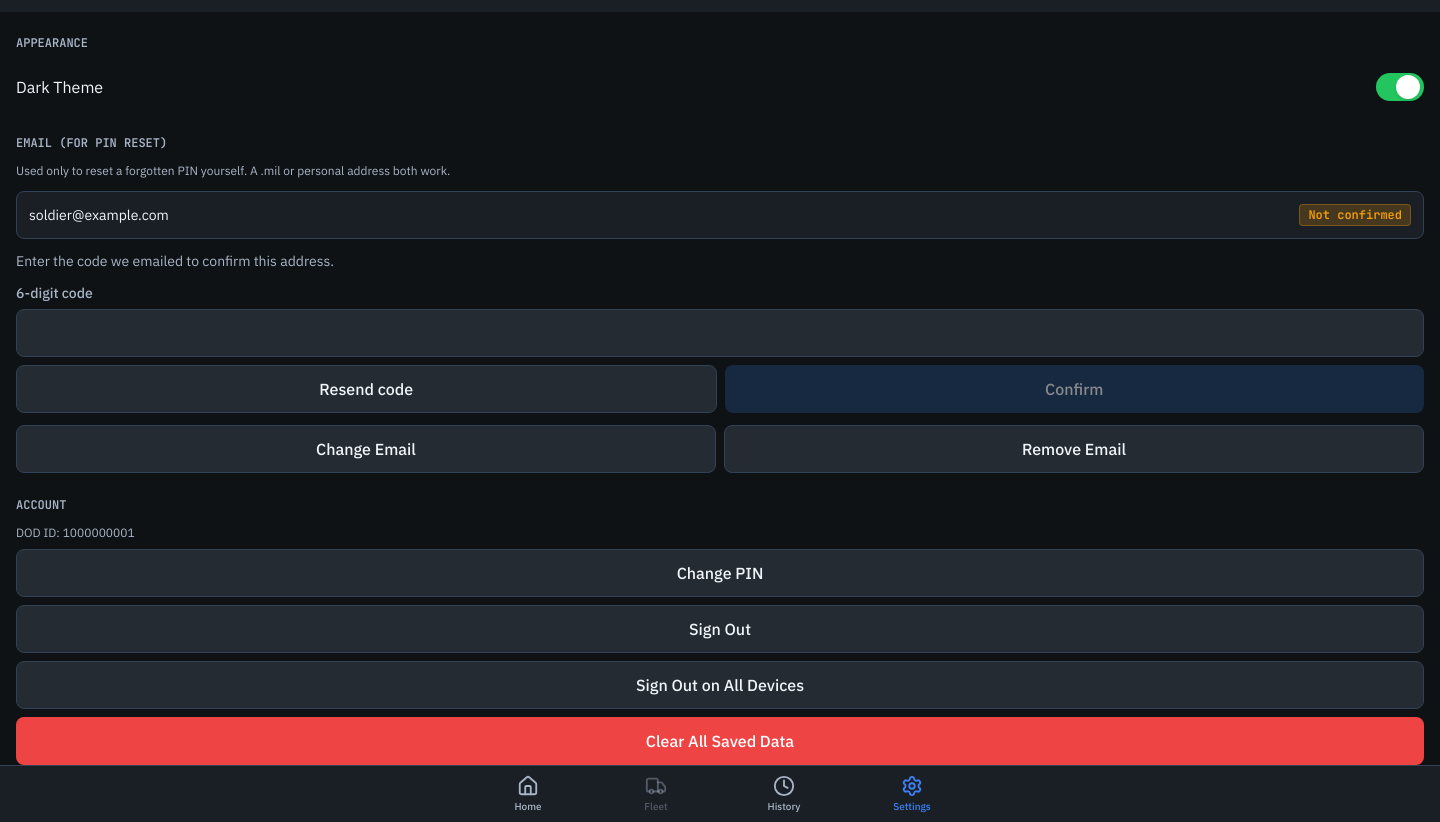
Test: Settings → Email › confirms an unconfirmed email with the code and keeps the cache in sync
(page scrolled)
Expected: the text with test id "email-current" reads "soldier@example.com", [29,206,169,224]
Expected: the element with test id "email-settings" shows "Not confirmed", [1308,207,1402,223]
Click the button "Resend code" at (366,389), box [16,365,716,413]
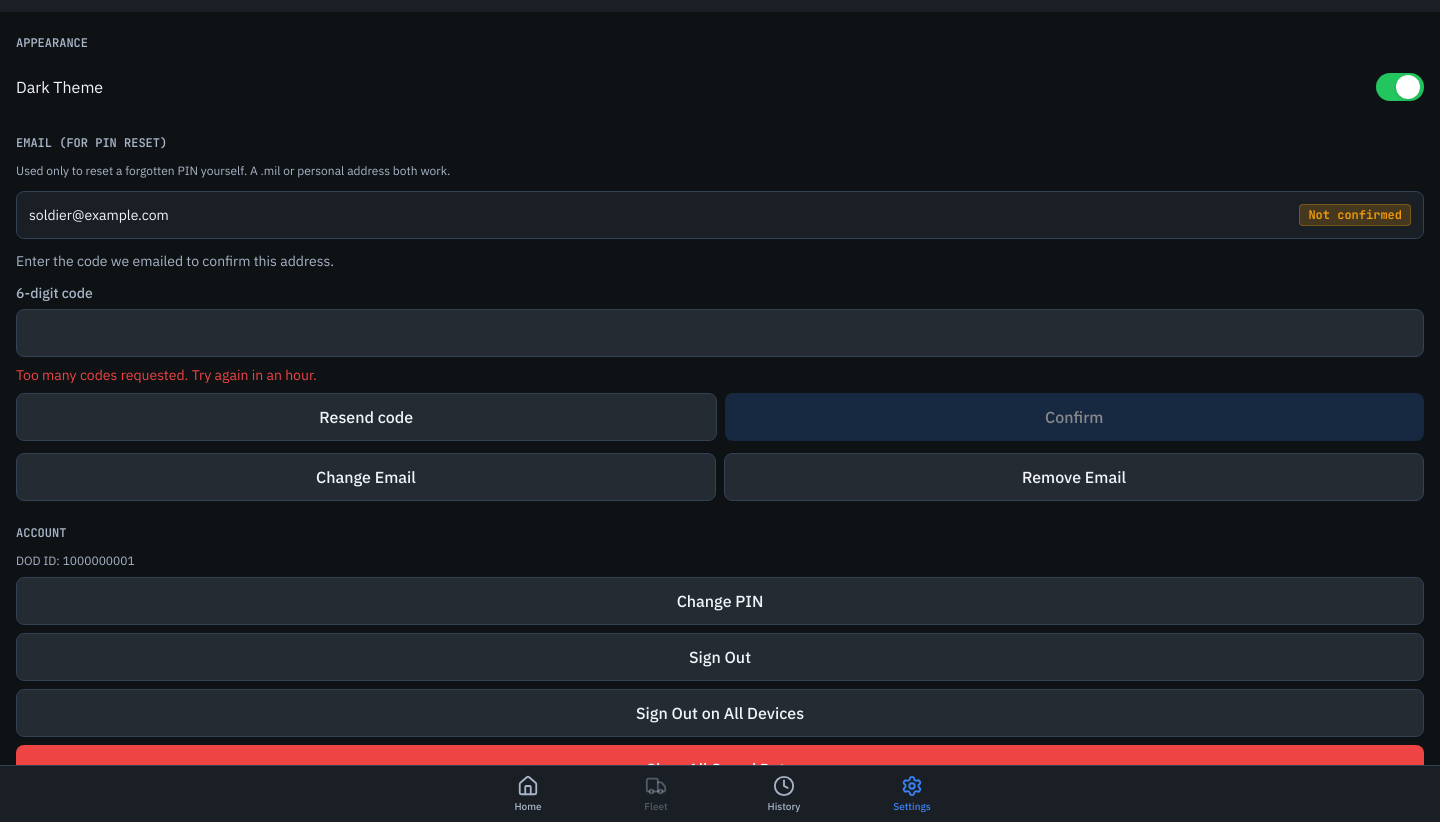
Result: the message shows "Too many codes requested" at [16,366,317,384]
Type "111111" into the field labelled "6-digit code" at (720,333), box [16,309,1424,357]
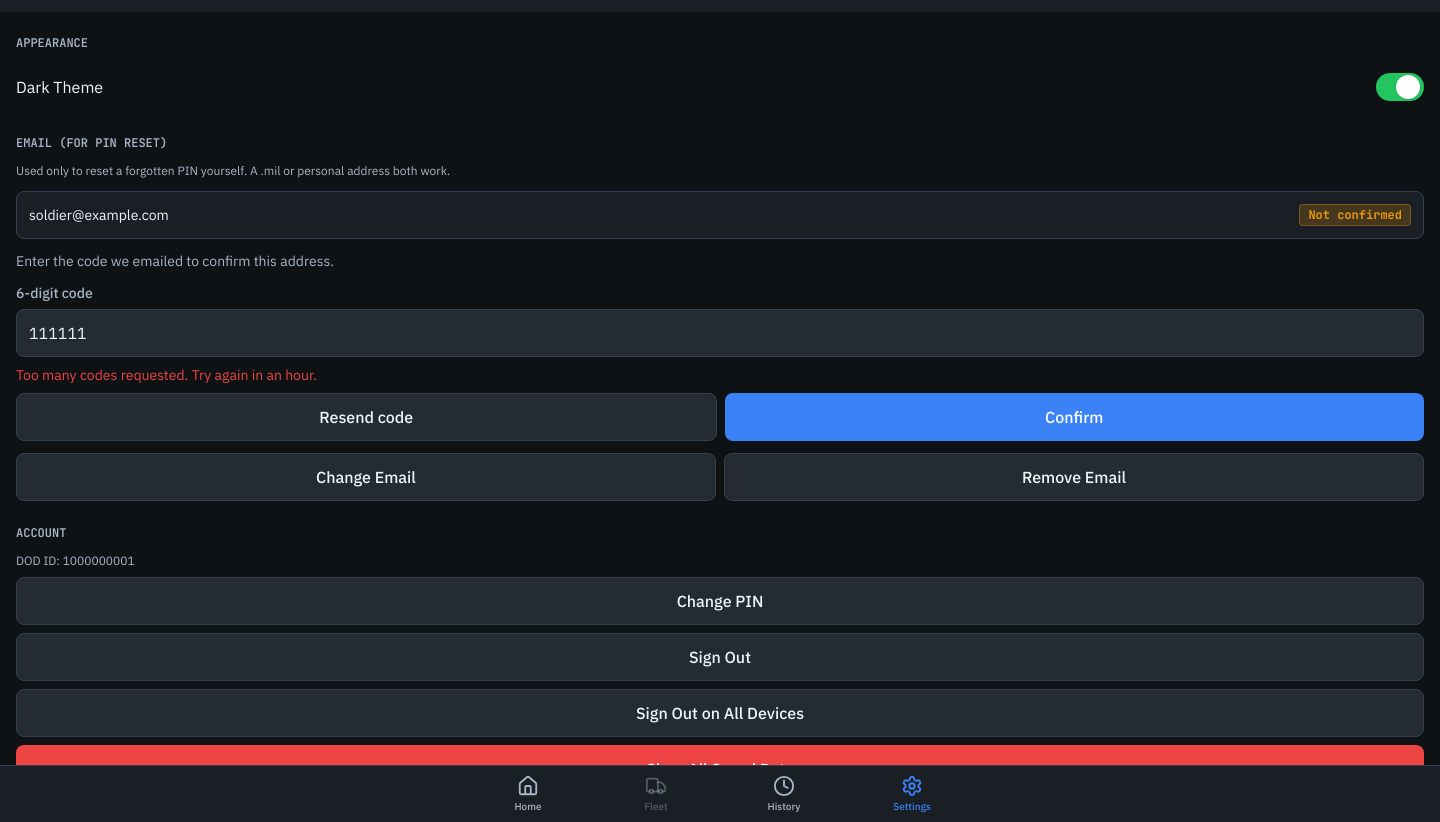
Click the button "Confirm" at (1074,417), box [724,393,1424,441]
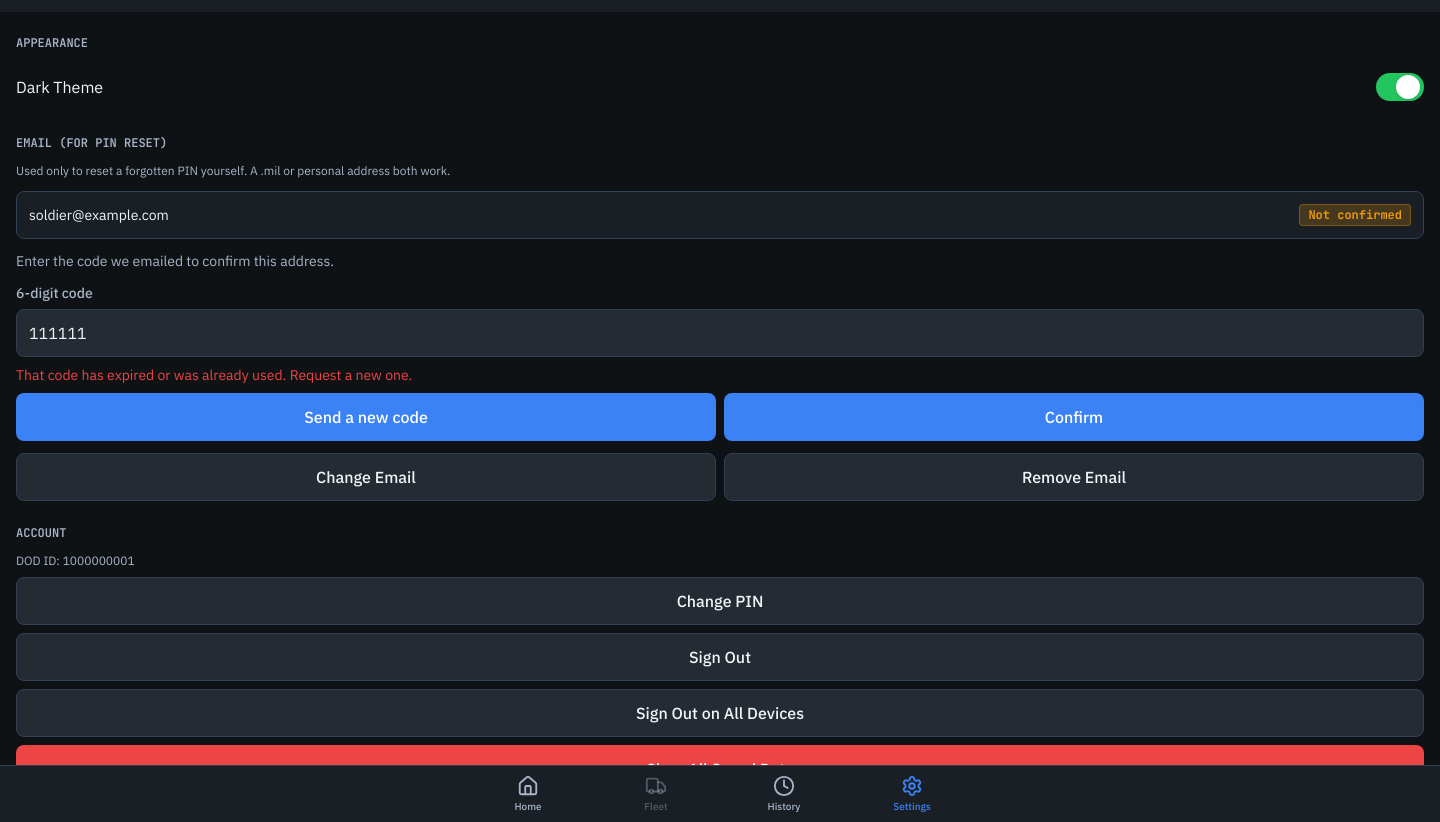
Result: the button "Send a new code" is shown at [16,393,716,441]
Replace the text in the field labelled "6-digit code" with "654321" at (720,333), box [16,309,1424,357]
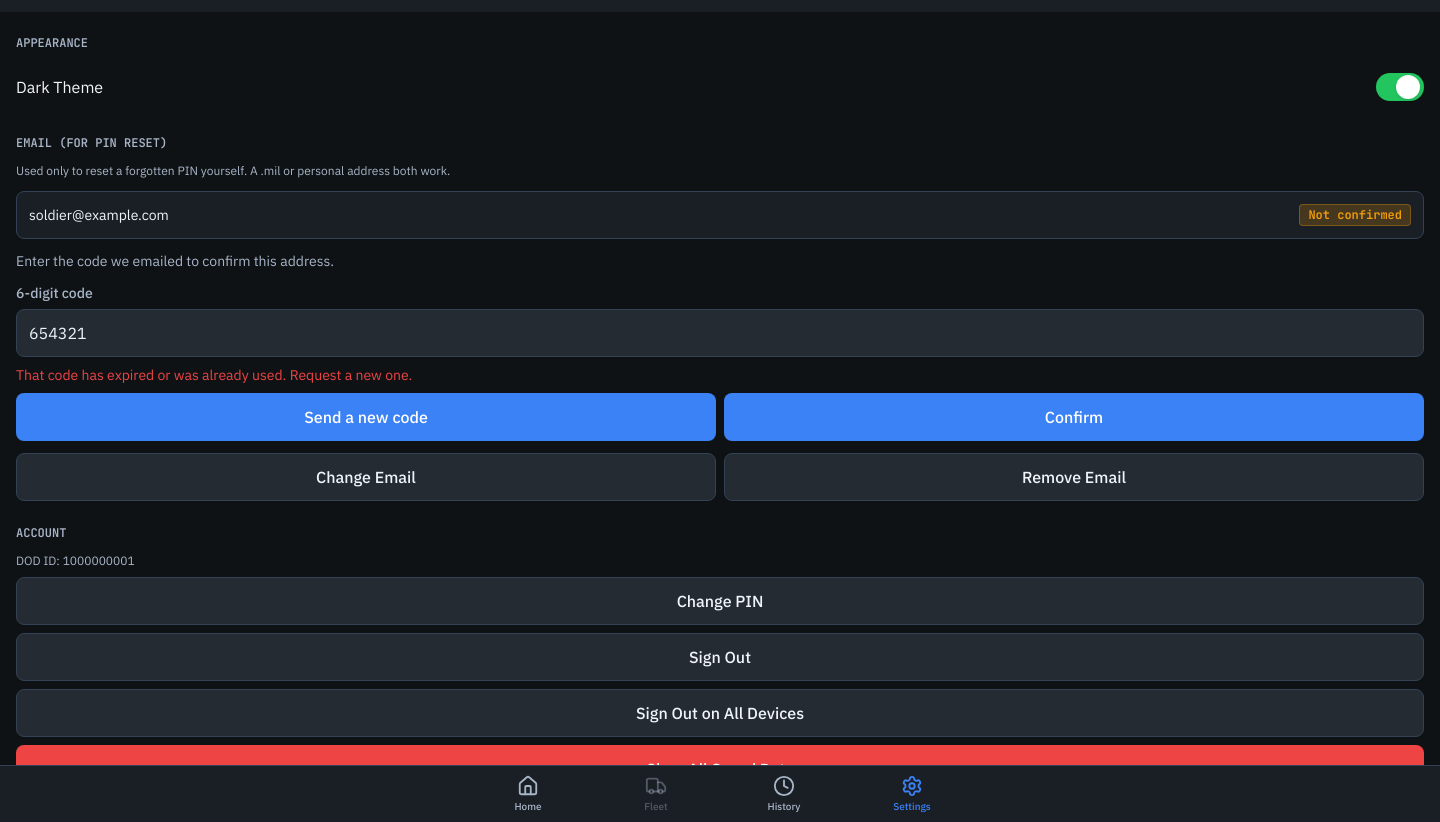
Click the button "Confirm" at (1074,417), box [724,393,1424,441]
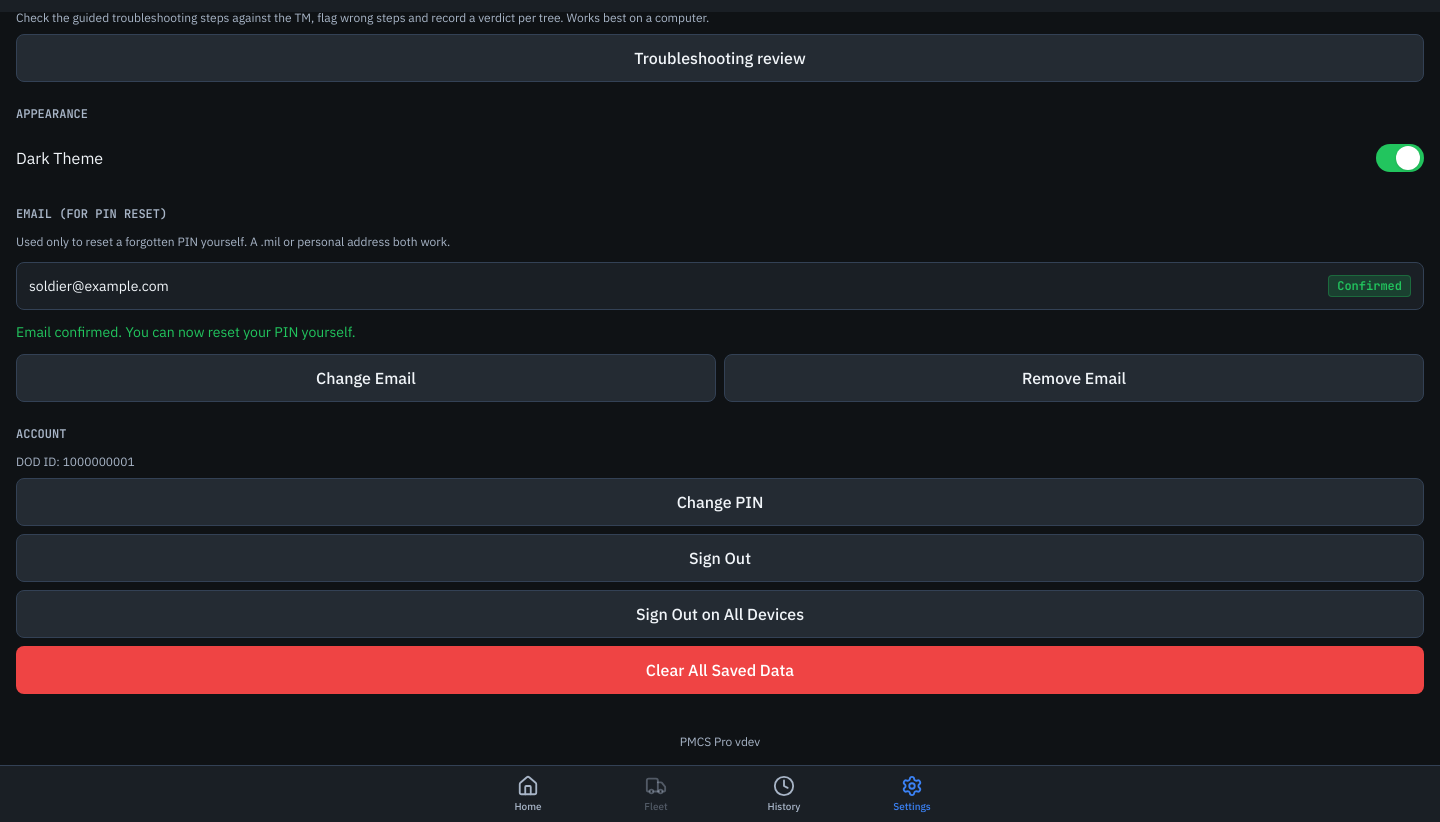
Expected: the element with test id "email-settings" shows "Confirmed", [1337,278,1402,294]
Result: the text with test id "email-settings" no longer shows "Not confirmed"
Result: the label labelled "6-digit code" is gone
